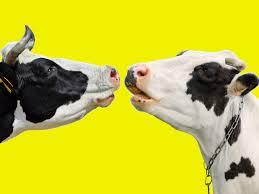cow: (125, 50, 259, 193), (0, 42, 121, 143)
